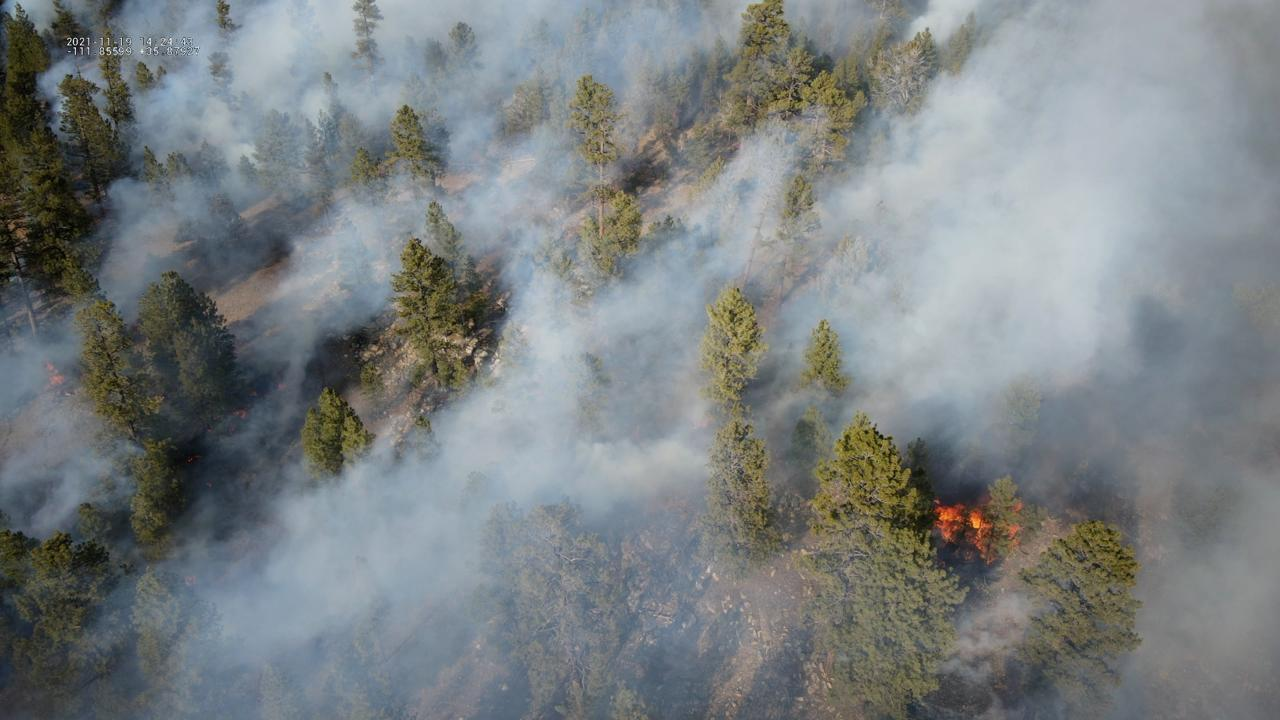fire: (924, 486, 1023, 565), (43, 360, 65, 387), (230, 407, 248, 420), (186, 456, 193, 464)
smoke: (0, 0, 1280, 720)
